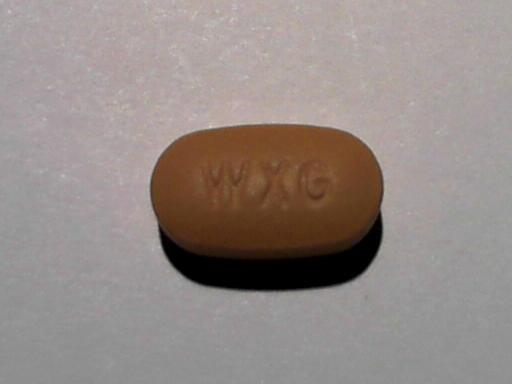Pill: (146, 119, 389, 266)
